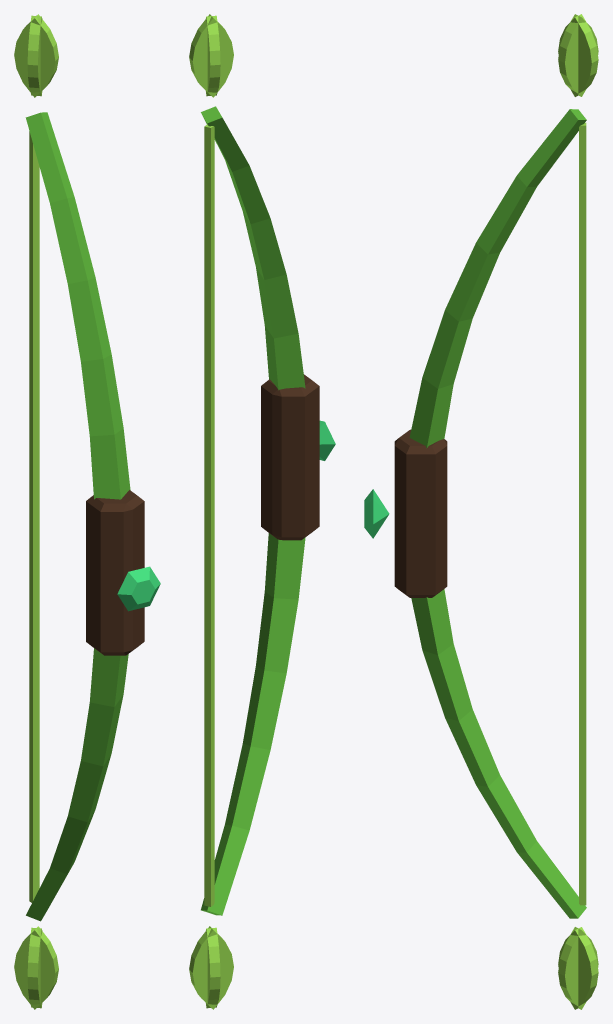
Rendered from NatureBow.fbx.
3 views of the same model, side by side, from view 1: azimuth 30°, elevation 25°; view 2: azimuth 150°, elevation 25°; view 3: azimuth 270°, elevation 25° (orthographic).
Parts seen in each view (by area): view 1: NatureBow; view 2: NatureBow; view 3: NatureBow.
Boxes of the visible parts, x1,y1,x2,y2 form: NatureBow: (14, 14, 160, 1009); NatureBow: (189, 14, 335, 1009); NatureBow: (364, 14, 598, 1009).
Bounding box in the file's own units: 0.2425 × 5.22 × 1.12.
1 material, 1 textured.
